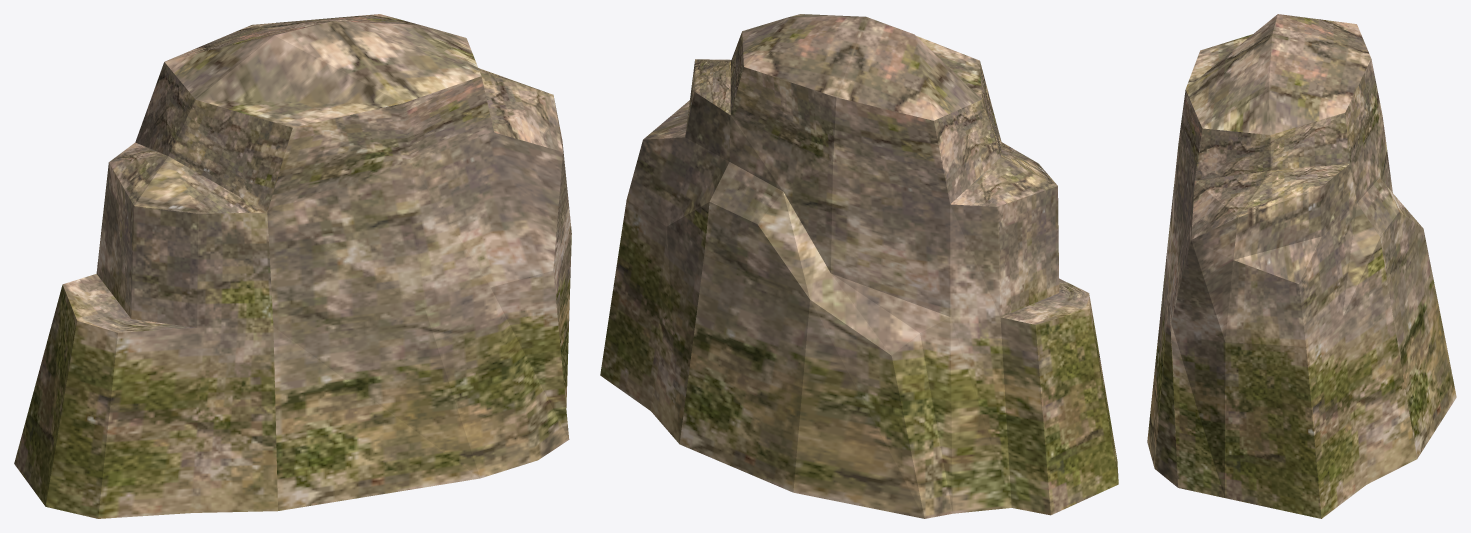
File: town_mountain_a__11___1_36.fbx
3 renders of one model, left to right at view 1: azimuth 30°, elevation 25°; view 2: azimuth 150°, elevation 25°; view 3: azimuth 270°, elevation 25°, orthographic. The views are drawn at different scales.
Visible parts, largest first — view 1: town_mountain_a__11___1_36; view 2: town_mountain_a__11___1_36; view 3: town_mountain_a__11___1_36.
Part boxes in pixels (x1=…): town_mountain_a__11___1_36: x1=14, y1=14, x2=571, y2=518; town_mountain_a__11___1_36: x1=600, y1=14, x2=1118, y2=518; town_mountain_a__11___1_36: x1=1147, y1=14, x2=1456, y2=518.
Size of the model in its own units: 41.04 by 31.17 by 23.37.
